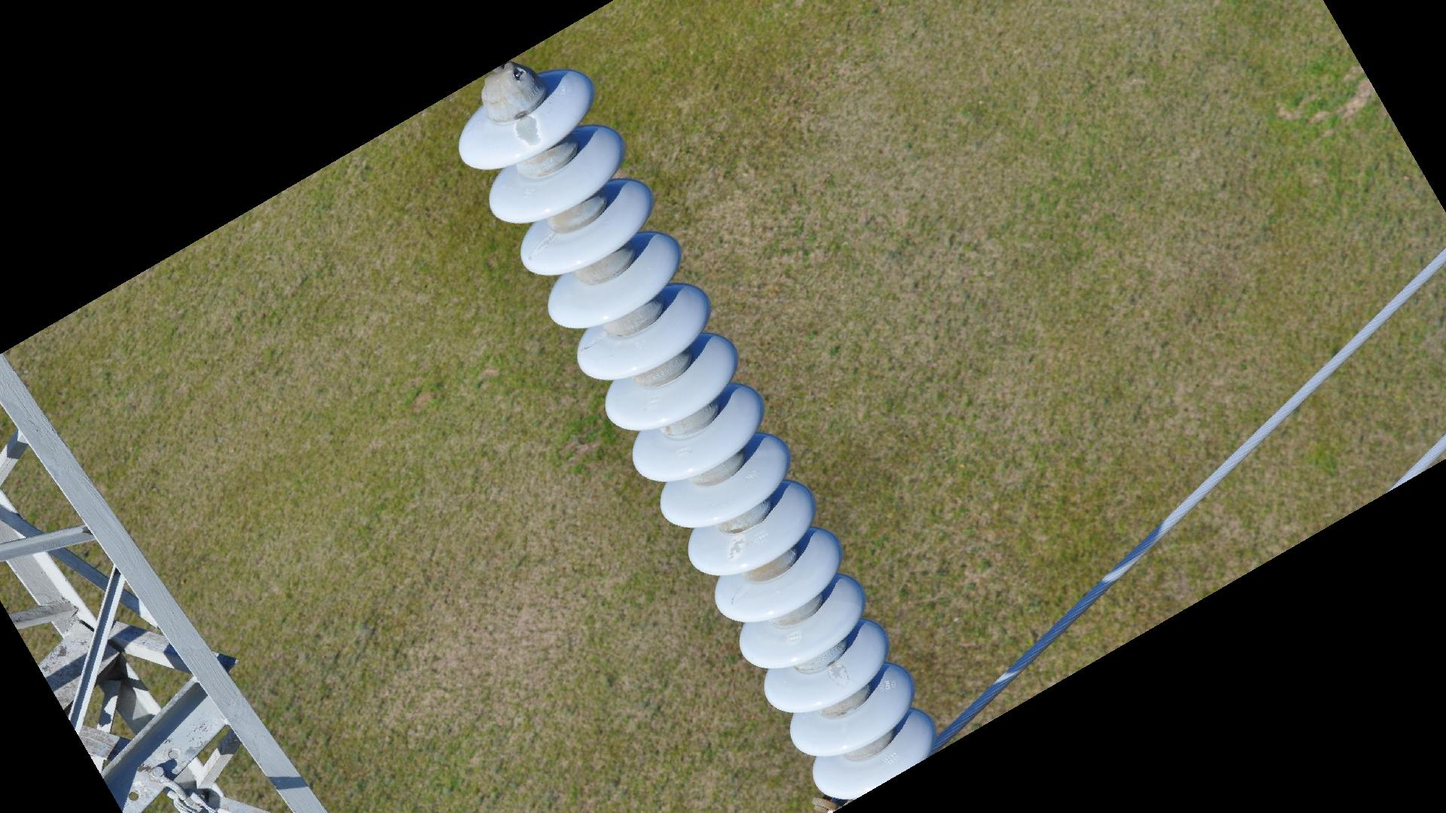insulator: (450, 62, 943, 808)
insulator_flashover: (512, 111, 544, 148)
